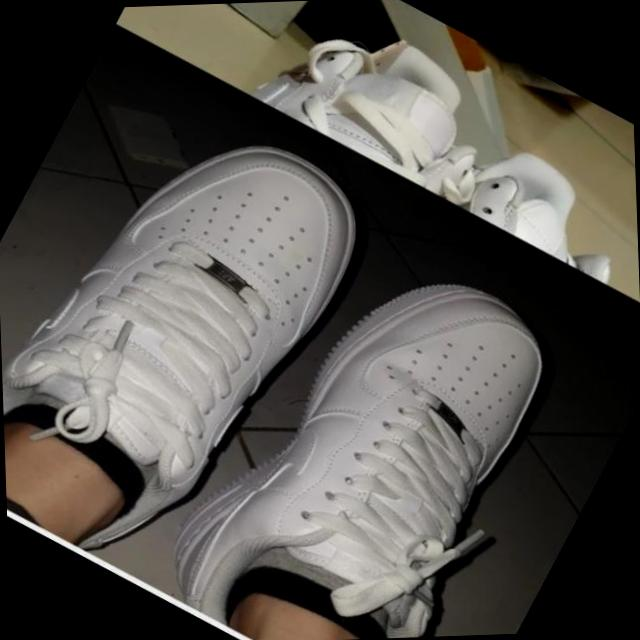nike_original_airforce: (0, 69, 401, 608), (140, 209, 594, 640)
